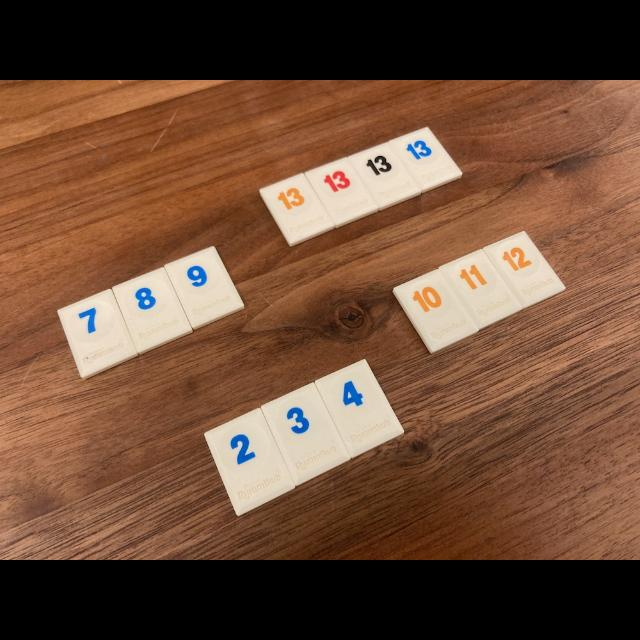black_13: (349, 144, 421, 209)
blue_13: (389, 128, 462, 192)
blue_2: (205, 409, 295, 515)
blue_3: (261, 382, 350, 485)
blue_4: (315, 359, 404, 457)
blue_7: (58, 289, 138, 378)
blue_8: (112, 268, 192, 353)
blue_9: (165, 246, 244, 328)
orange_10: (394, 270, 479, 353)
orange_11: (439, 250, 522, 329)
orange_12: (484, 231, 565, 307)
orange_13: (260, 174, 335, 246)
red_13: (305, 158, 379, 227)
